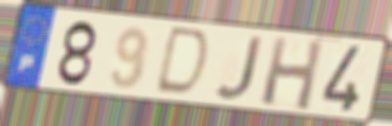4: (317, 43, 364, 115)
8: (56, 19, 97, 86)
9: (109, 24, 154, 92)
D: (151, 25, 213, 100)
H: (258, 35, 326, 113)
J: (212, 35, 266, 103)
